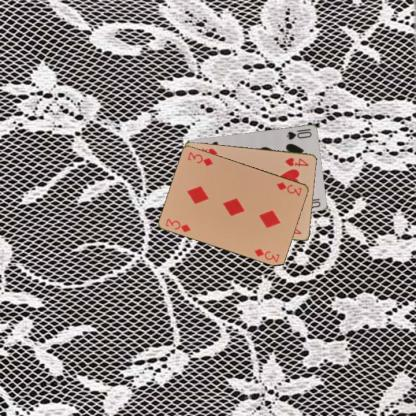10s: (284, 129, 313, 141)
3d: (274, 179, 304, 197), (163, 215, 192, 233)
4h: (282, 155, 310, 167)
